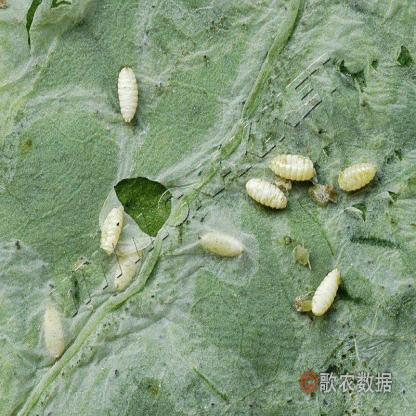whorl-maggot: (310, 260, 346, 324), (247, 171, 292, 216), (194, 227, 246, 264), (112, 66, 142, 128), (268, 149, 318, 183), (340, 159, 382, 196), (40, 304, 64, 359)
